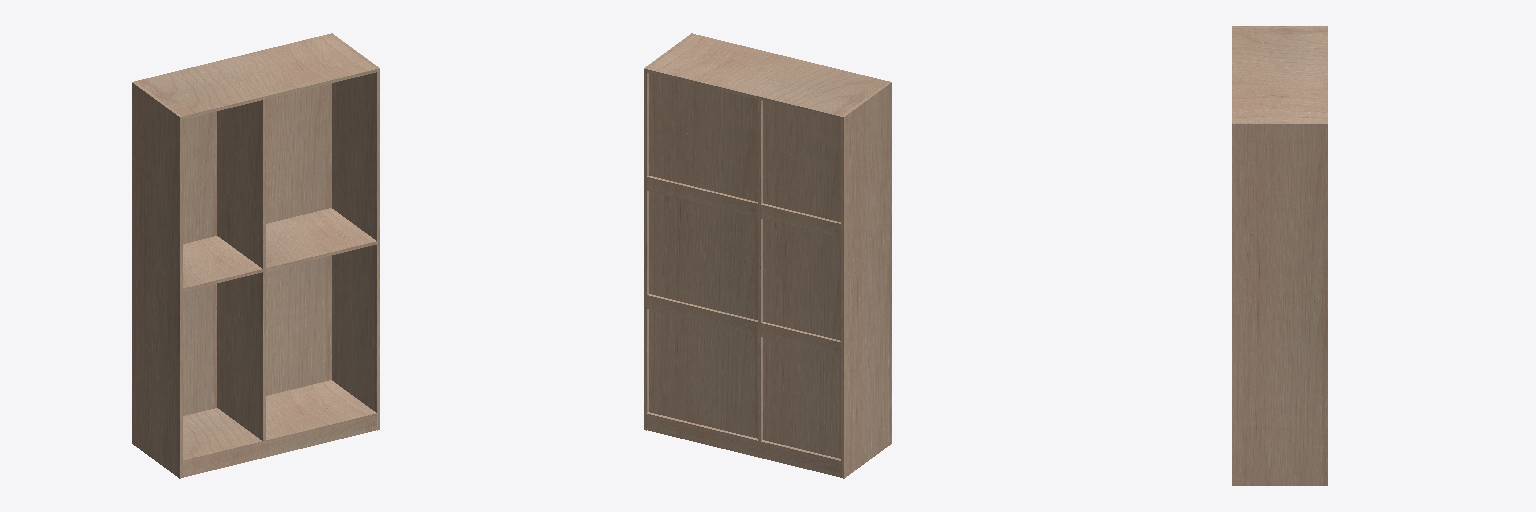
3 views of the same model, side by side, from view 1: azimuth 30°, elevation 25°; view 2: azimuth 150°, elevation 25°; view 3: azimuth 270°, elevation 25° (orthographic).
Parts seen in each view (by area): view 1: Untitled.007_meshId7_name, Untitled.005_meshId5_name, Untitled.004_meshId4_name, Untitled.006_meshId6_name, Untitled.011_meshId11_name, Untitled.012_meshId12_name, Untitled.013_meshId13_name, Untitled.008_meshId8_name, Untitled.010_meshId10_name, Untitled.009_meshId9_name; view 2: Untitled.005_meshId5_name, Untitled.012_meshId12_name, Untitled.007_meshId7_name, Untitled.011_meshId11_name, Untitled.014_meshId14_name, Untitled.006_meshId6_name, Untitled_meshId0_name, Untitled.001_meshId1_name, Untitled.004_meshId4_name, Untitled.003_meshId3_name, Untitled.002_meshId2_name, Untitled.013_meshId13_name; view 3: Untitled.006_meshId6_name, Untitled.011_meshId11_name.
Boxes of the visible parts, <box> form: Untitled.007_meshId7_name: <box>132,81,182,478</box>; Untitled.005_meshId5_name: <box>266,83,331,395</box>; Untitled.004_meshId4_name: <box>217,99,265,440</box>; Untitled.006_meshId6_name: <box>330,33,379,430</box>; Untitled.011_meshId11_name: <box>135,34,376,118</box>; Untitled.012_meshId12_name: <box>183,111,216,415</box>; Untitled.013_meshId13_name: <box>183,380,376,463</box>; Untitled.008_meshId8_name: <box>266,208,376,270</box>; Untitled.010_meshId10_name: <box>183,236,262,291</box>; Untitled.009_meshId9_name: <box>183,417,376,477</box>; Untitled.005_meshId5_name: <box>649,73,757,438</box>; Untitled.012_meshId12_name: <box>763,101,840,458</box>; Untitled.007_meshId7_name: <box>841,81,891,478</box>; Untitled.011_meshId11_name: <box>647,34,888,119</box>; Untitled.014_meshId14_name: <box>647,417,840,477</box>; Untitled.006_meshId6_name: <box>644,33,693,430</box>; Untitled_meshId0_name: <box>647,294,757,335</box>; Untitled.001_meshId1_name: <box>647,176,757,217</box>; Untitled.004_meshId4_name: <box>758,100,762,440</box>; Untitled.003_meshId3_name: <box>761,203,840,237</box>; Untitled.002_meshId2_name: <box>761,322,840,355</box>; Untitled.013_meshId13_name: <box>647,412,840,463</box>; Untitled.006_meshId6_name: <box>1232,123,1327,485</box>; Untitled.011_meshId11_name: <box>1232,28,1327,122</box>.
Size of the model in its own units: 1200 by 2068 by 500.
Materials: 1 (1 with a texture image).